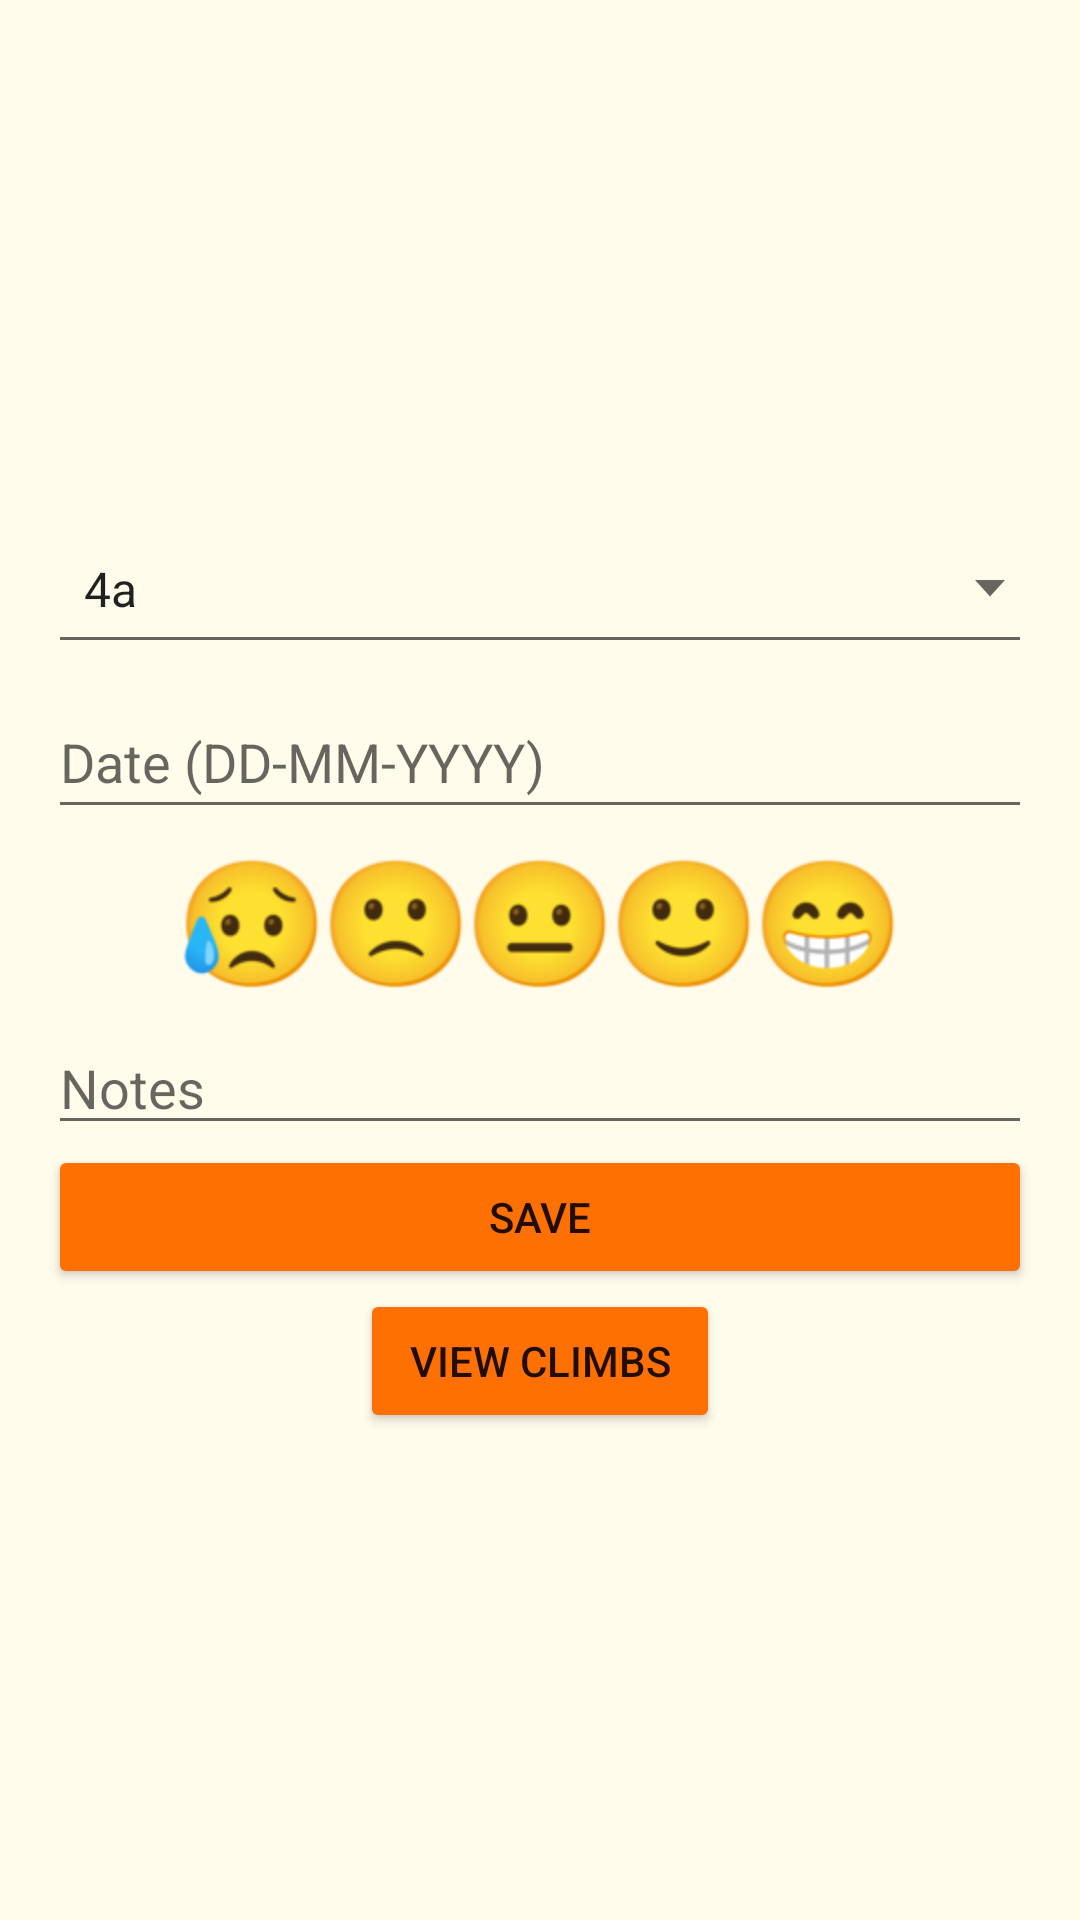

Where icons sit on this 1080 × 1920 app screen, as {"left": x1, "top": y1, "right": x2, "bottom": y2}:
emoji: {"left": 183, "top": 860, "right": 319, "bottom": 988}, {"left": 329, "top": 860, "right": 463, "bottom": 988}, {"left": 473, "top": 860, "right": 607, "bottom": 988}, {"left": 617, "top": 860, "right": 751, "bottom": 988}, {"left": 761, "top": 860, "right": 895, "bottom": 988}
